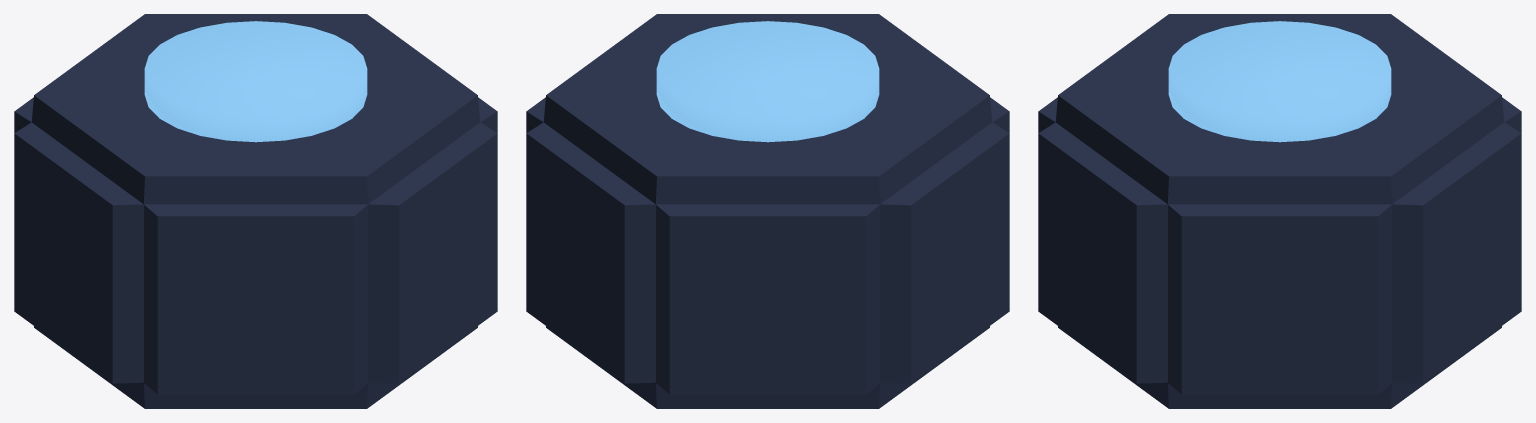
File: frame_node.glb
3 views of the same model, side by side, from view 1: azimuth 30°, elevation 25°; view 2: azimuth 150°, elevation 25°; view 3: azimuth 270°, elevation 25° (orthographic).
Visible parts, largest first — view 1: frame_node, frame_node_lens; view 2: frame_node, frame_node_lens; view 3: frame_node, frame_node_lens.
Boxes of the visible parts, x1,y1,x2,y2 form: frame_node: (14, 14, 497, 408); frame_node_lens: (144, 21, 367, 142); frame_node: (526, 14, 1009, 408); frame_node_lens: (656, 21, 879, 142); frame_node: (1038, 14, 1521, 408); frame_node_lens: (1168, 21, 1391, 142).
Bounding box in the file's own units: 0.5196 × 0.335 × 0.565.
